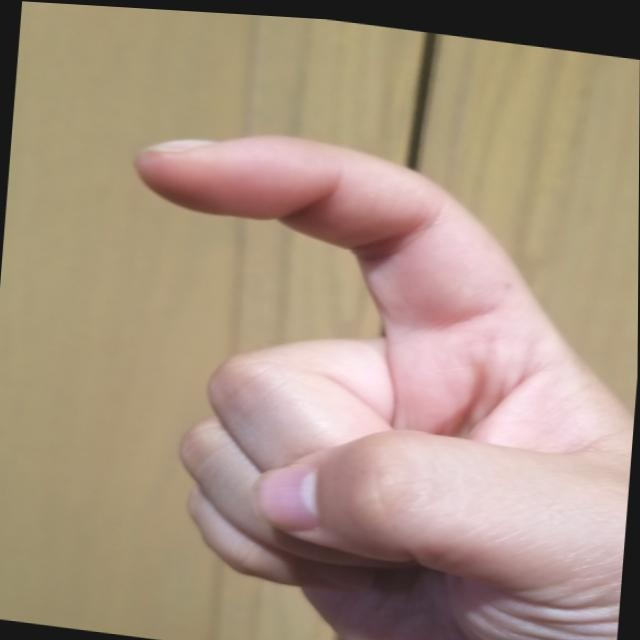X: (84, 102, 639, 639)
